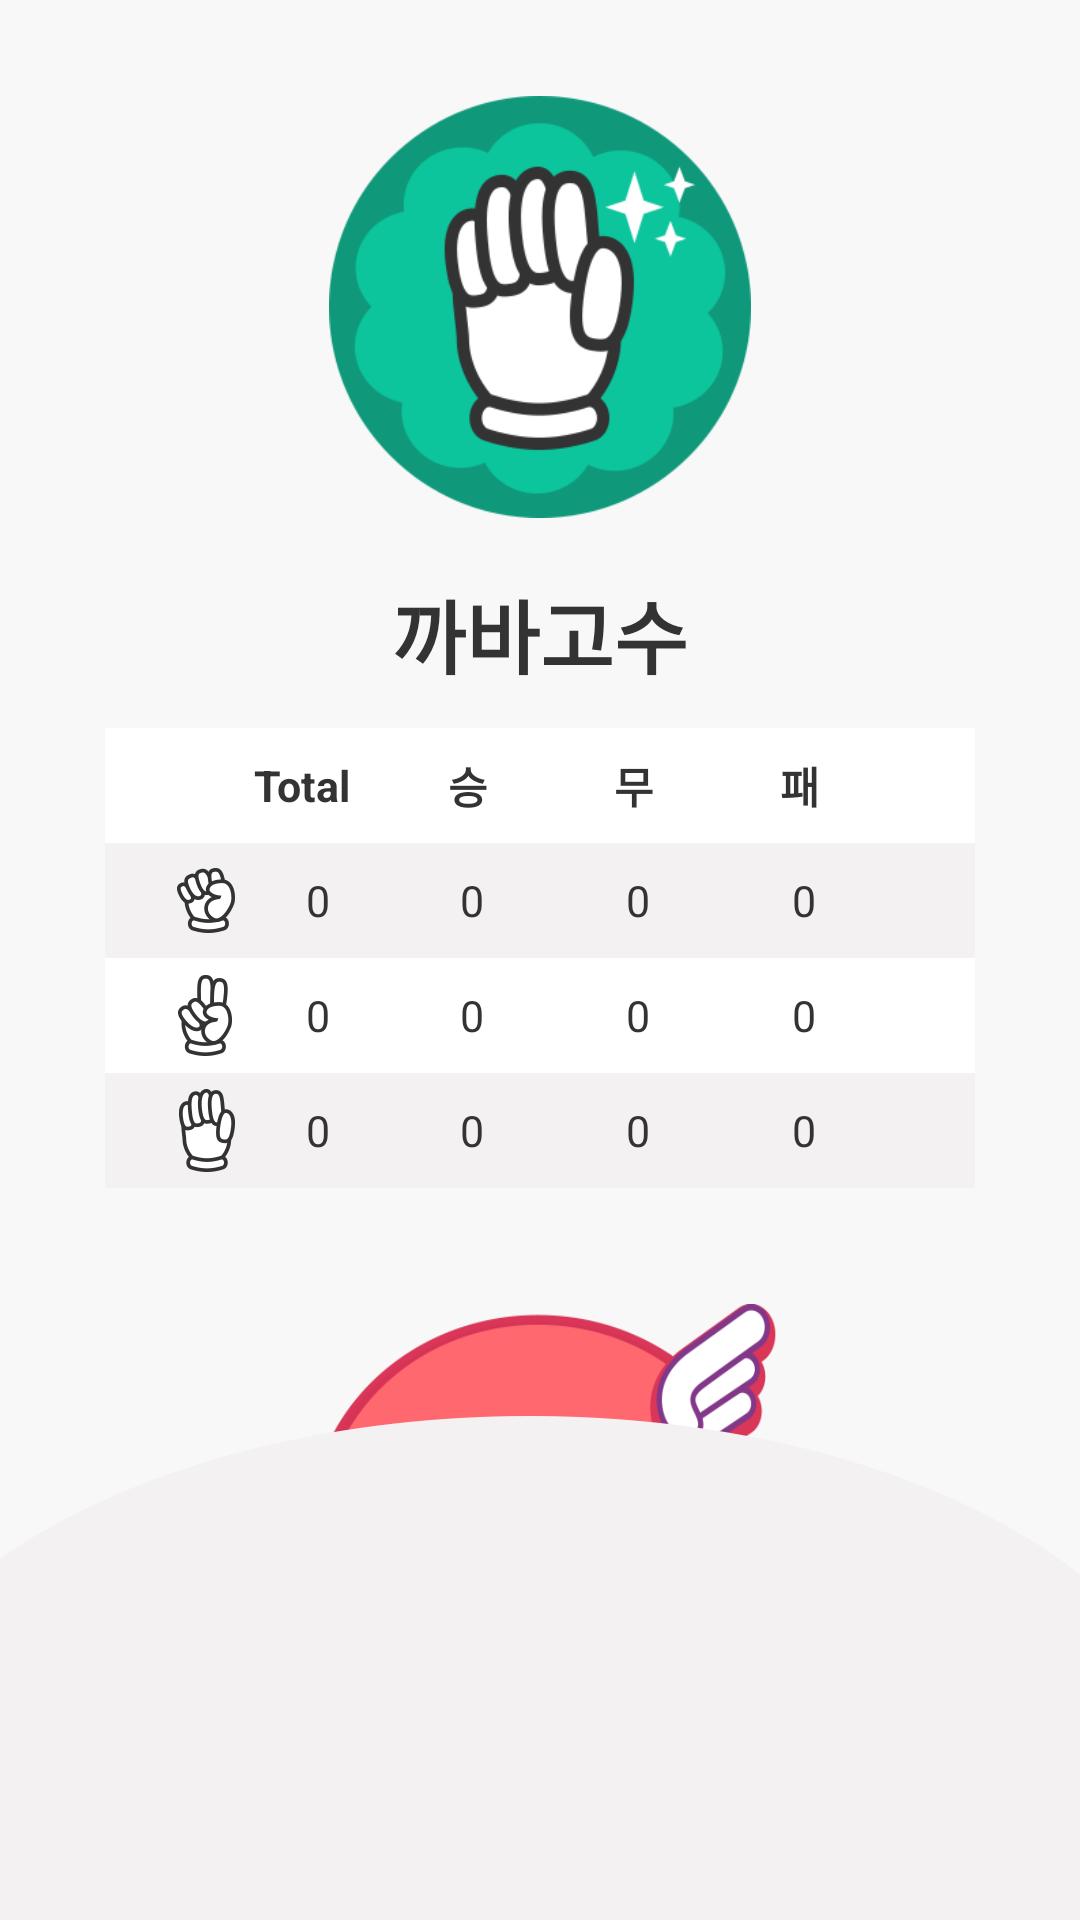

Where icons sit on this 1080*1920 app screen, as {"x1": x1, "y1": y1, "x2": x2, "y2": y2}:
dashboard paper: {"x1": 179, "y1": 1089, "x2": 235, "y2": 1172}
dashboard rock: {"x1": 177, "y1": 868, "x2": 235, "y2": 933}
dashboard scissor: {"x1": 178, "y1": 975, "x2": 232, "y2": 1056}
